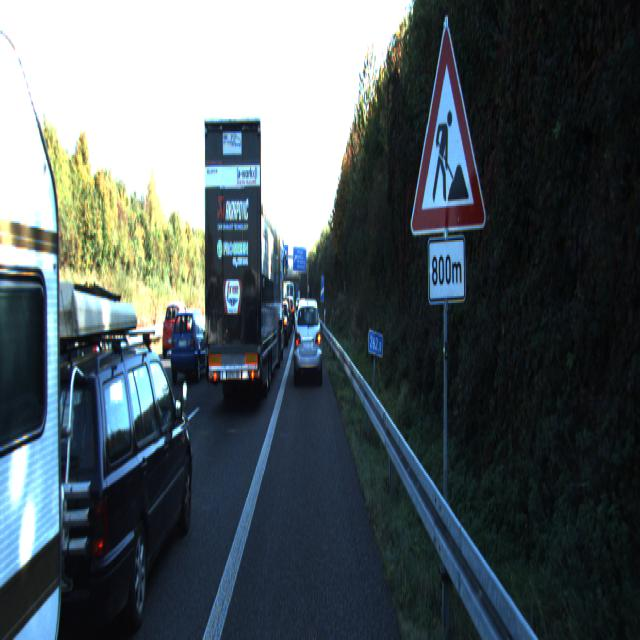Car: (0, 338, 196, 639), (0, 0, 83, 639), (204, 116, 284, 412), (46, 314, 145, 466), (171, 308, 212, 385), (293, 295, 322, 384), (162, 301, 194, 358), (272, 306, 290, 346)
